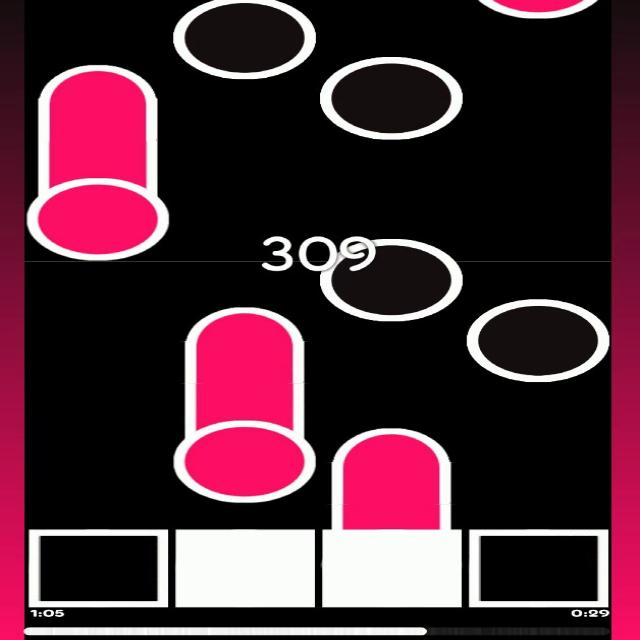end_hold: (332, 417, 452, 471), (185, 297, 304, 349), (36, 55, 158, 105)
note: (318, 52, 464, 139), (464, 295, 606, 384), (321, 236, 461, 323), (174, 0, 318, 80)
start_hold: (171, 399, 321, 502), (28, 163, 171, 261), (475, 0, 597, 21)
